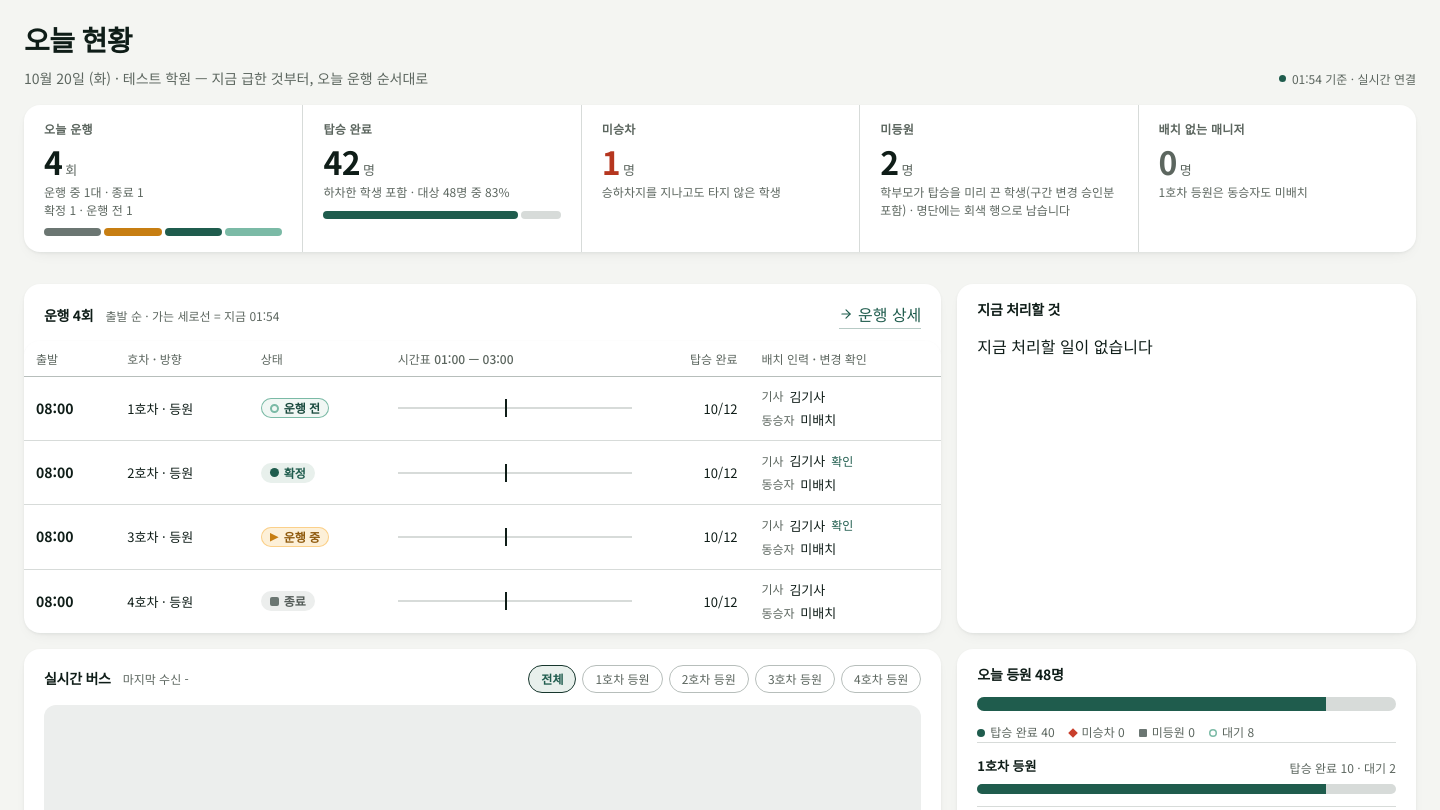
DashboardPage — 버스 목록 4종 상태·노선 선택 › idle 회차가 예정 경로를 받으면 예정 경로 안내를 지도 위에 보여준다
This screenshot has width=1440, height=810.
Click the button "1호차 등원" at x=623, y=679, box [582,665,663,693]
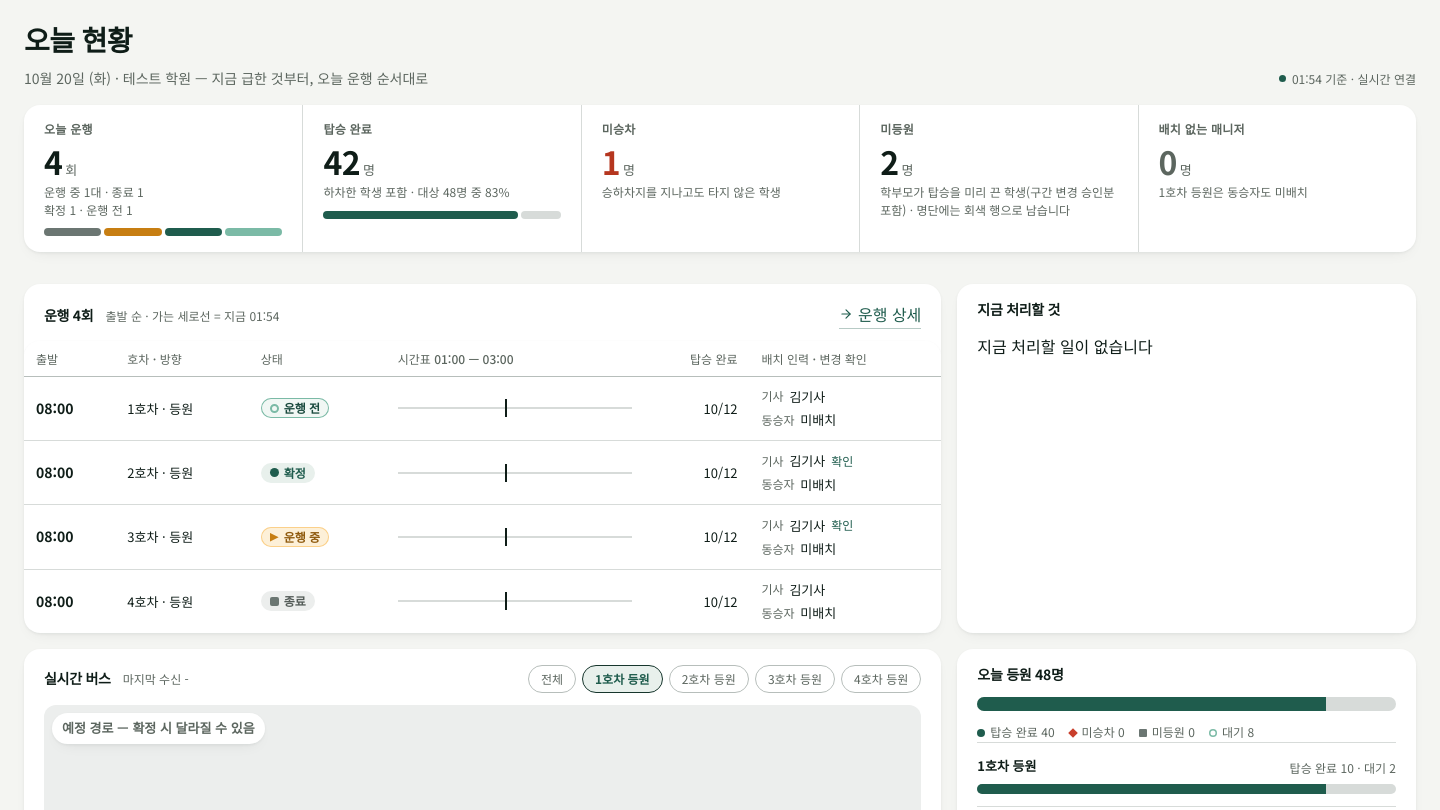
Check: the text "예정 경로 — 확정 시 달라질 수 있음" is shown, box [52,713,265,744]
